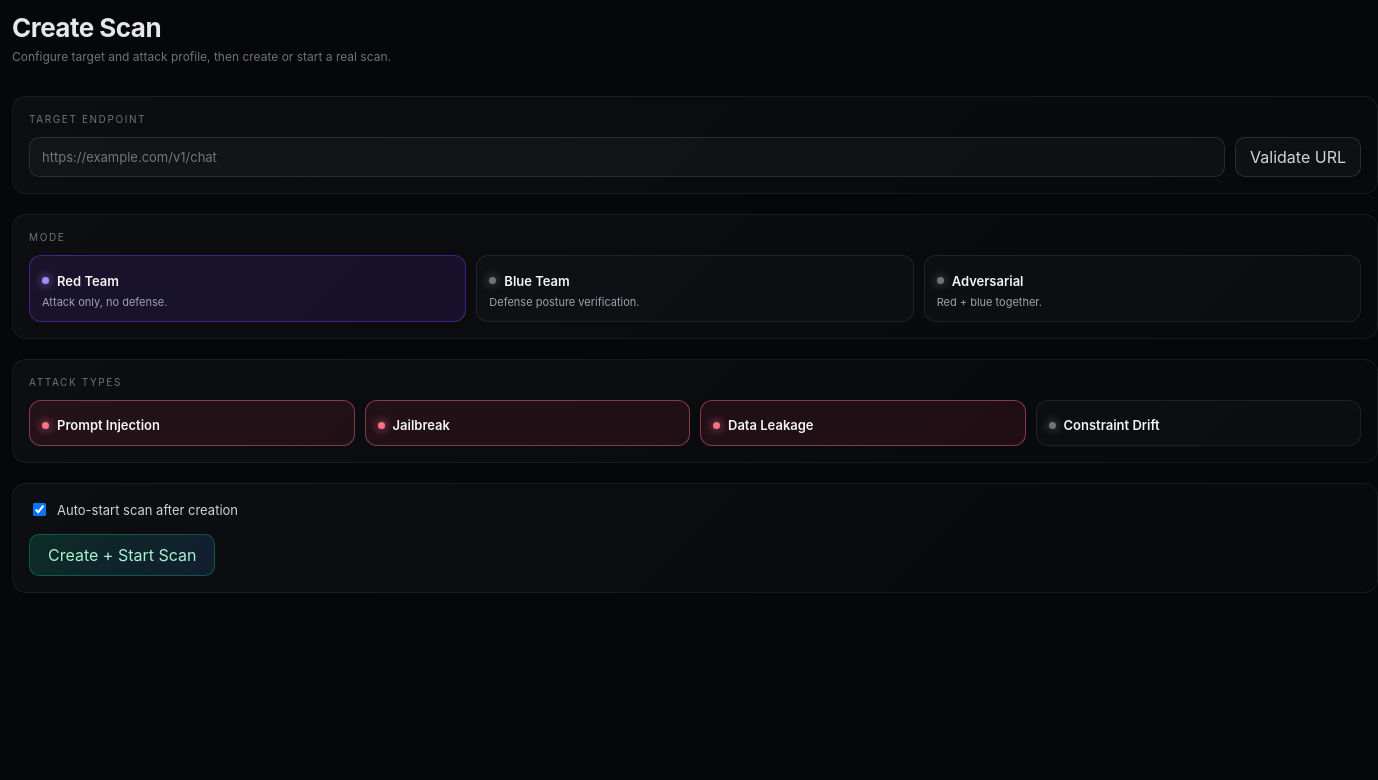
Test: NewScanContent › blocks invalid URLs before hitting the API
Click the button "Create + Start Scan": click(122, 555) [29,534,216,576]
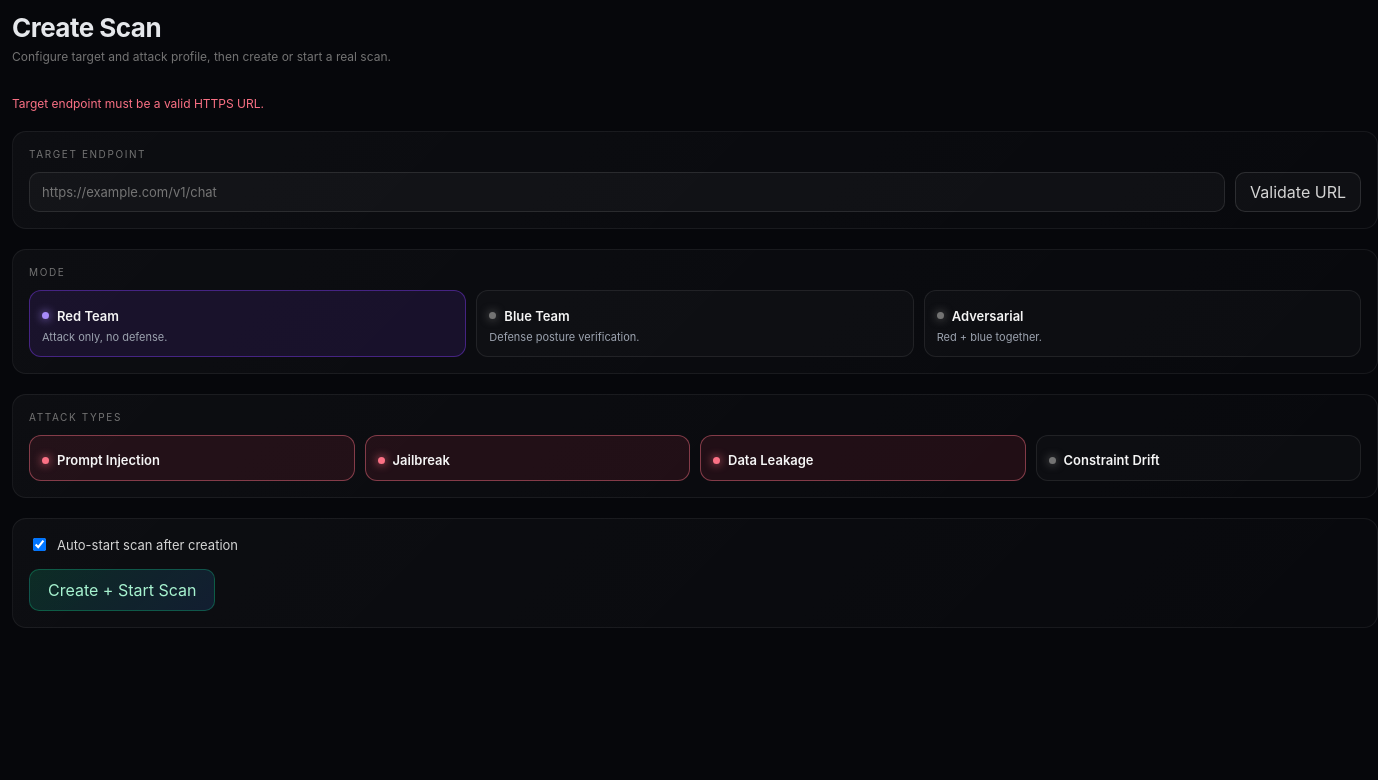
Check: the text "Target endpoint must be a valid HTTPS URL." is shown, box [12,96,264,111]
